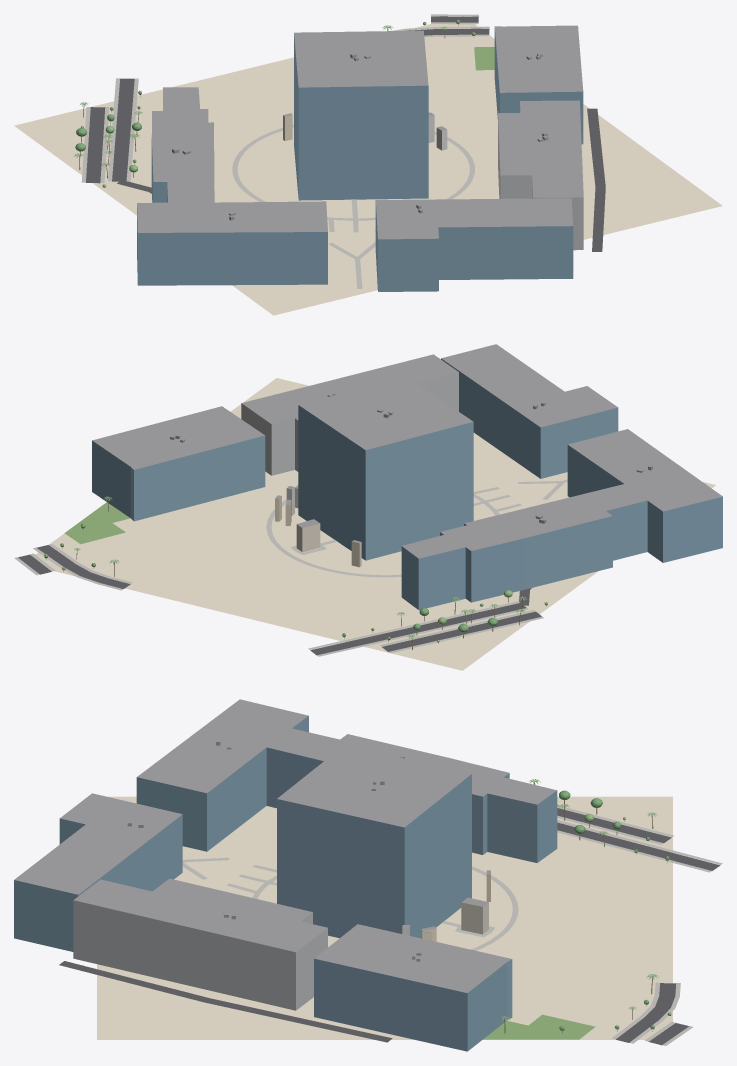
Rendered from tile_1_-7.glb.
3 views of the same model, one above another, from view 1: azimuth 30°, elevation 25°; view 2: azimuth 150°, elevation 25°; view 3: azimuth 270°, elevation 25° (orthographic). The views are drawn at different scales.
Parts seen in each view (by area): view 1: nature_ground, buildings_roof, buildings_glass_blue, roads_asphalt, roads_sidewalk, buildings_industrial; view 2: buildings_glass_blue, nature_ground, buildings_roof, roads_sidewalk, roads_asphalt, buildings_industrial, nature_grass, buildings_concrete_warm, buildings_sandstone; view 3: buildings_glass_blue, nature_ground, buildings_roof, buildings_industrial, roads_asphalt, roads_sidewalk, nature_grass, buildings_concrete_warm.
Part boxes in pixels (x1=…): nature_ground: x1=14, y1=16, x2=722, y2=315; buildings_roof: x1=137, y1=25, x2=583, y2=239; buildings_glass_blue: x1=137, y1=28, x2=583, y2=291; roads_asphalt: x1=86, y1=16, x2=605, y2=251; roads_sidewalk: x1=81, y1=14, x2=489, y2=288; buildings_industrial: x1=498, y1=106, x2=583, y2=250; buildings_glass_blue: x1=92, y1=358, x2=722, y2=609; nature_ground: x1=33, y1=378, x2=715, y2=670; buildings_roof: x1=92, y1=344, x2=722, y2=558; roads_sidewalk: x1=14, y1=479, x2=567, y2=656; roads_asphalt: x1=18, y1=545, x2=541, y2=655; buildings_industrial: x1=241, y1=372, x2=458, y2=475; nature_grass: x1=64, y1=502, x2=129, y2=544; buildings_concrete_warm: x1=296, y1=523, x2=320, y2=552; buildings_sandstone: x1=275, y1=496, x2=361, y2=567; buildings_glass_blue: x1=14, y1=716, x2=557, y2=1051; nature_ground: x1=97, y1=796, x2=672, y2=1039; buildings_roof: x1=14, y1=699, x2=556, y2=992; buildings_industrial: x1=73, y1=900, x2=327, y2=1010; roads_asphalt: x1=59, y1=808, x2=720, y2=1045; roads_sidewalk: x1=182, y1=805, x2=722, y2=1045; nature_grass: x1=483, y1=1014, x2=595, y2=1039; buildings_concrete_warm: x1=461, y1=902, x2=488, y2=934.
Bounding box in the file's own units: 302 × 61.82 × 308.
